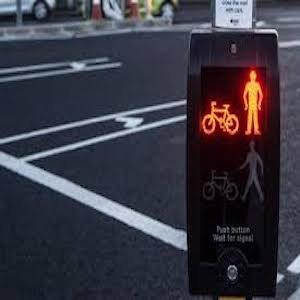red: (200, 64, 270, 139)
